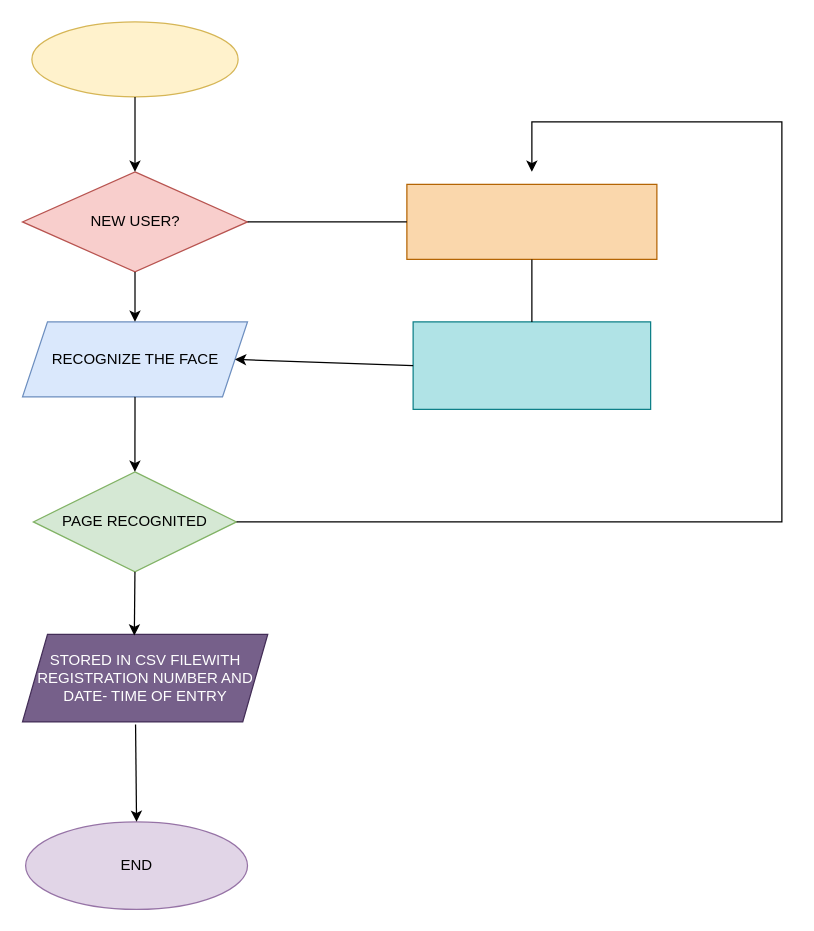
This 814x931 diagram has some shape labels left out. The centre of each missing label's shape, as x and y in pixels:
GIVE YOUR PHOTOGRAPH: [531,221]
START: [134,59]
STORE THE FACE DATA IN FOLDER ON YPUR NAME: [531,365]
